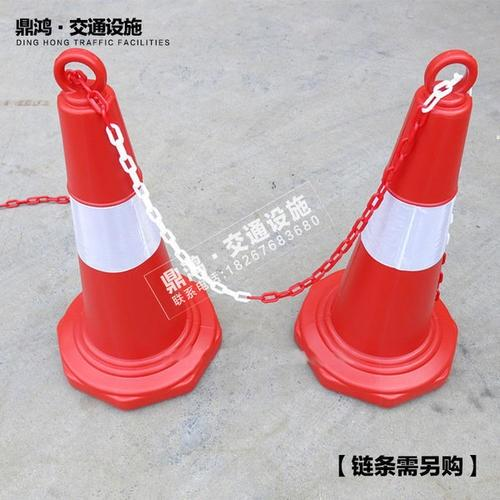cone_barrel: (38, 49, 218, 410), (308, 40, 483, 394)
